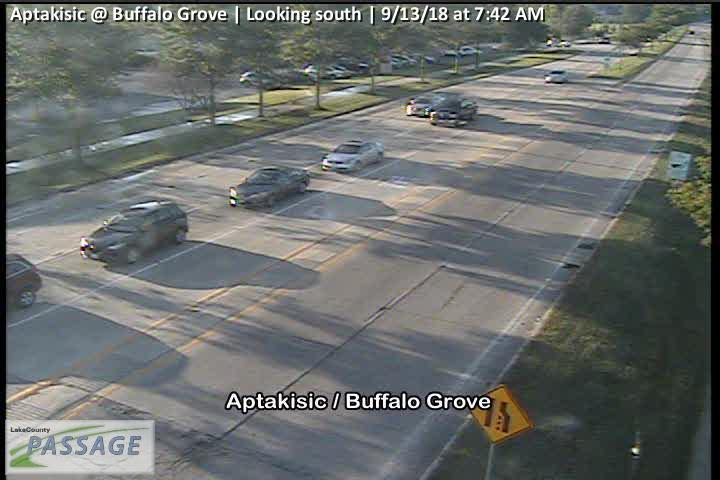SUV: (78, 199, 188, 264), (430, 94, 479, 128)
Sedan: (228, 165, 310, 211), (320, 137, 383, 173), (405, 94, 437, 117), (544, 70, 569, 83)
